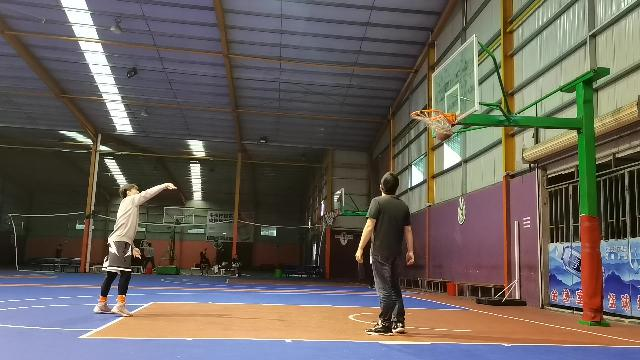basket: (410, 109, 444, 141), (324, 209, 336, 224)
goal: (434, 124, 452, 140)
